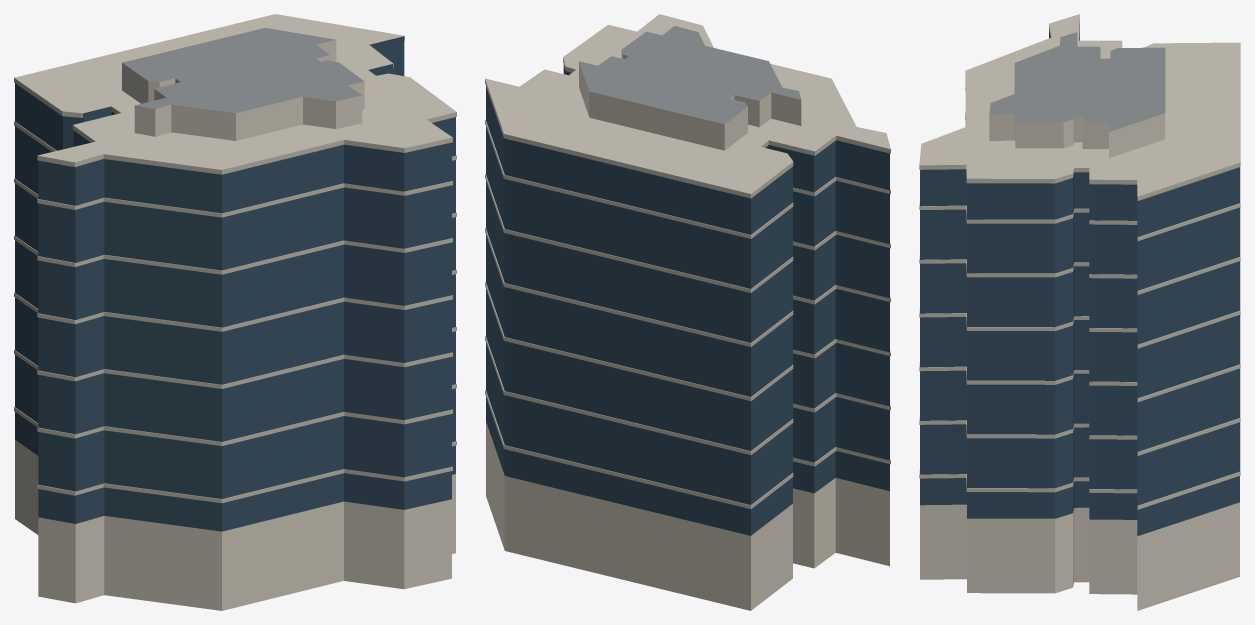
The model's file is dan_jones_building.glb.
3 views of the same model, side by side, from view 1: azimuth 30°, elevation 25°; view 2: azimuth 150°, elevation 25°; view 3: azimuth 270°, elevation 25° (orthographic). The views are drawn at different scales.
Parts seen in each view (by area): view 1: Dan_Jones_Building; view 2: Dan_Jones_Building; view 3: Dan_Jones_Building.
Boxes of the visible parts, bbox=[...] form: Dan_Jones_Building: bbox=[14, 14, 456, 610]; Dan_Jones_Building: bbox=[485, 14, 890, 610]; Dan_Jones_Building: bbox=[919, 14, 1240, 610].
Bounding box in the file's own units: 52.54 × 59.1 × 39.05.
